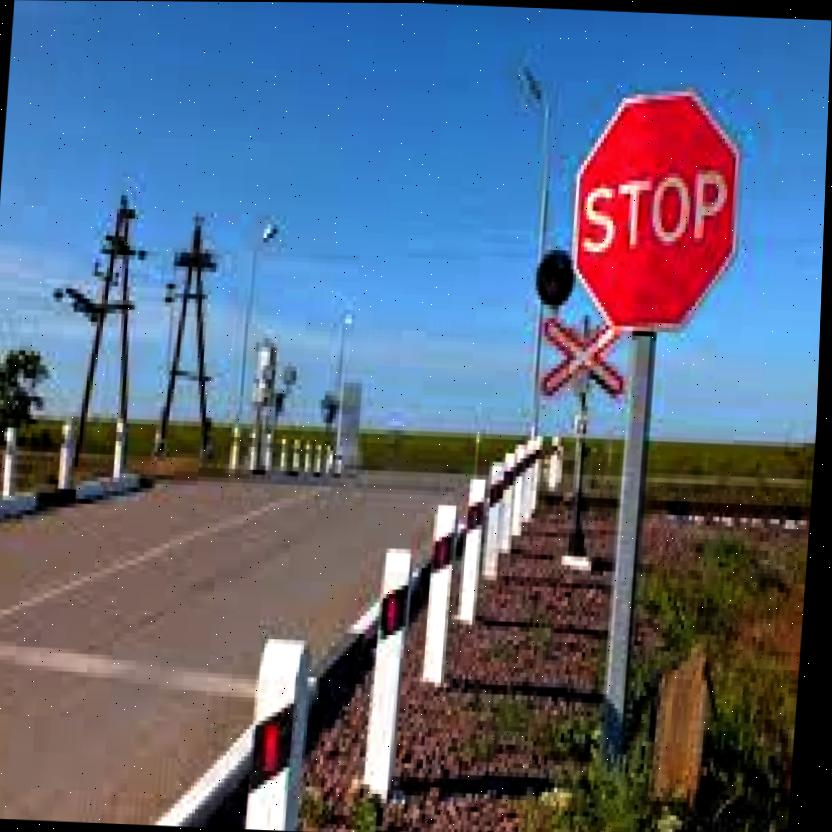Pole: (606, 333, 657, 751)
Sign: (565, 86, 745, 334)
